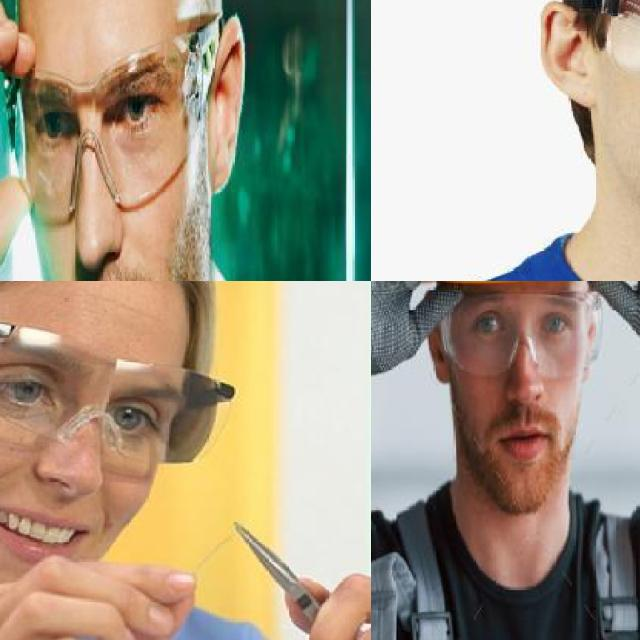No_Ear-Protection: (208, 15, 263, 196), (535, 0, 611, 115)
face_nomask: (0, 55, 191, 281), (0, 344, 178, 555), (464, 300, 584, 476)
glasses: (0, 5, 224, 227), (0, 311, 238, 470), (437, 285, 608, 378)
hand_glove: (371, 281, 463, 382), (579, 281, 640, 375)
hand_noglove: (0, 552, 202, 640), (0, 0, 48, 281)
person: (371, 281, 640, 640)
